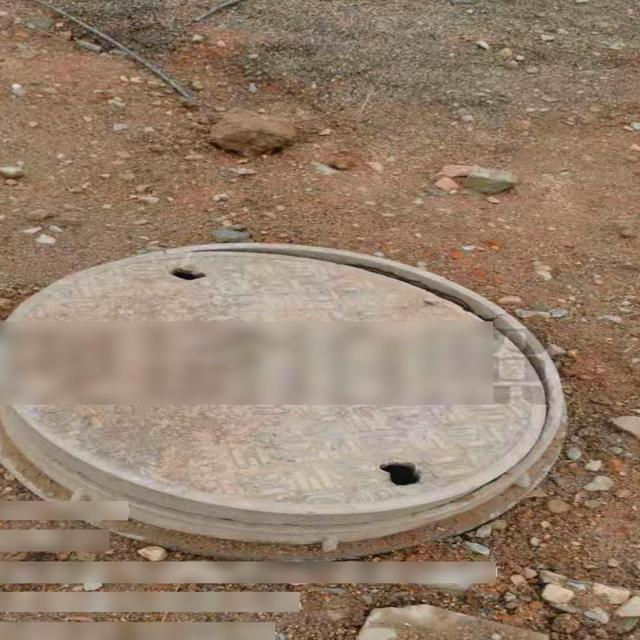uncovered: (0, 242, 568, 559)
